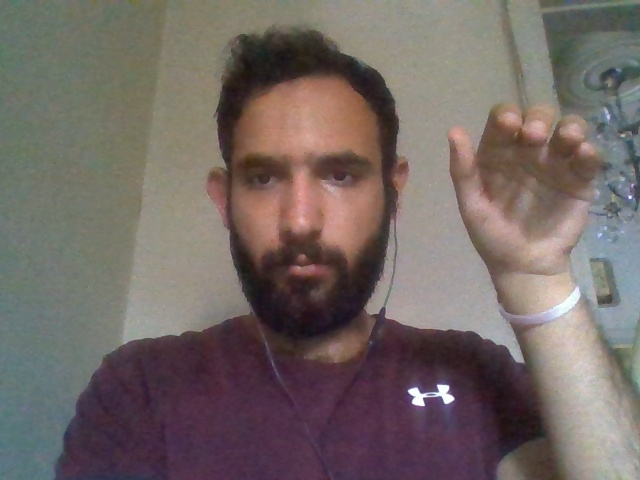Snake: (416, 76, 640, 480)
